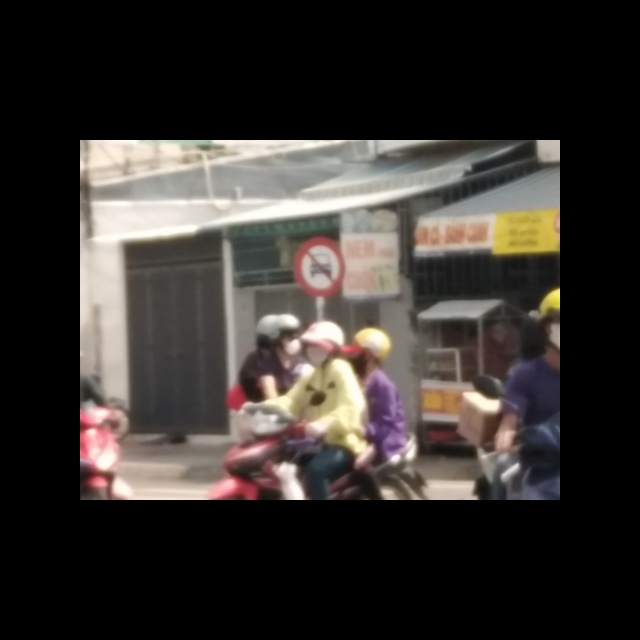Cấm xe ô tô: (292, 237, 347, 300)
